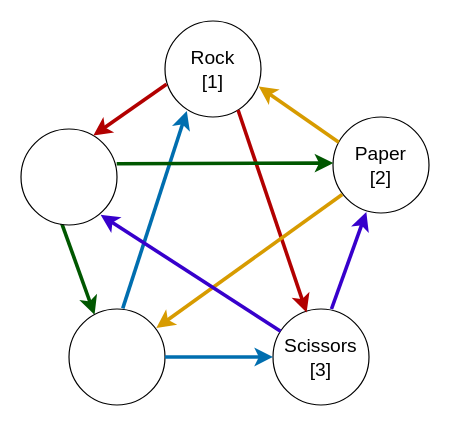
The diagram is 450 pixels wide and 426 high, and some of its shapes have lost their labels. Here are the shapes that lost their labels. From the top down, the centre of each, then its label:
the point at 68,176: Lizard [5]
the point at 116,356: Spock [4]
